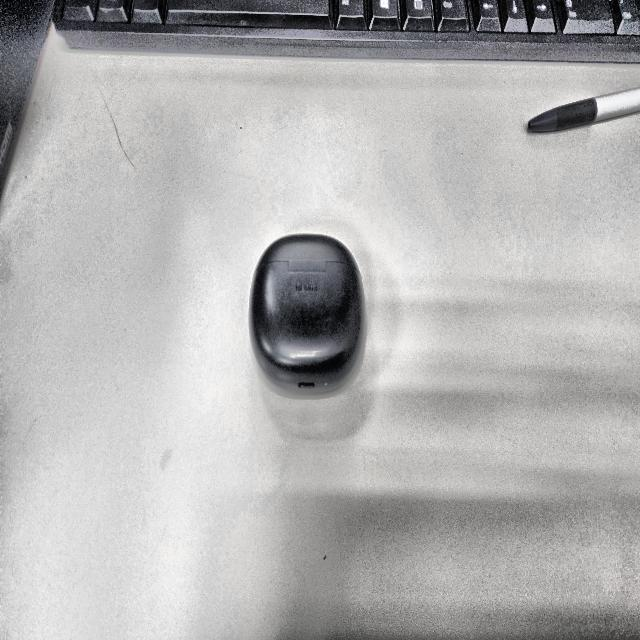Bluetooth headphones: (250, 234, 364, 393)
Keyboard: (44, 0, 640, 65)
